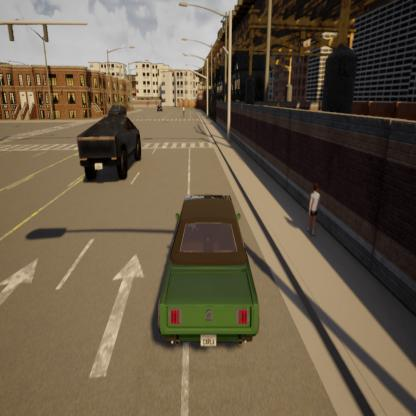Cars: (144, 162, 264, 372), (64, 104, 148, 201), (103, 84, 131, 134), (153, 93, 163, 121)
Pedestrian: (302, 165, 328, 259)
